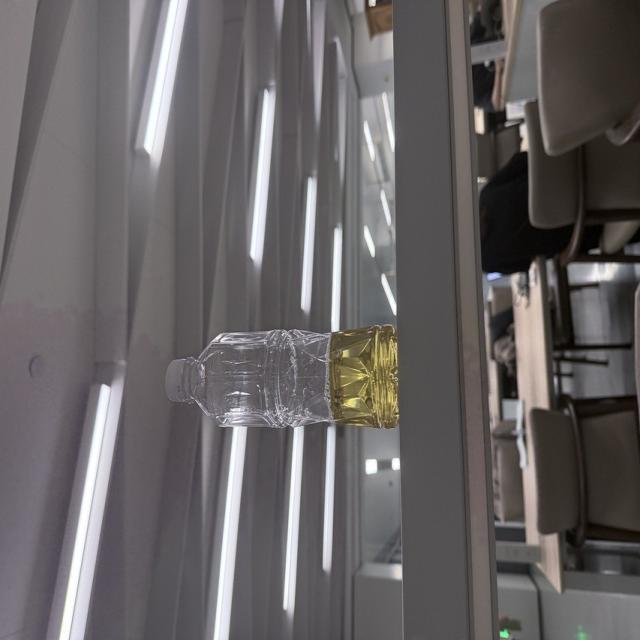low: (166, 325, 398, 428)
